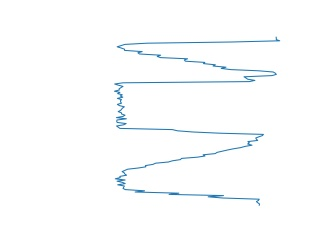distributaryChannelFill: (110, 72, 268, 140)
mouthBar: (115, 34, 281, 77)
underwaterDistributaryChannel: (112, 138, 263, 209)
